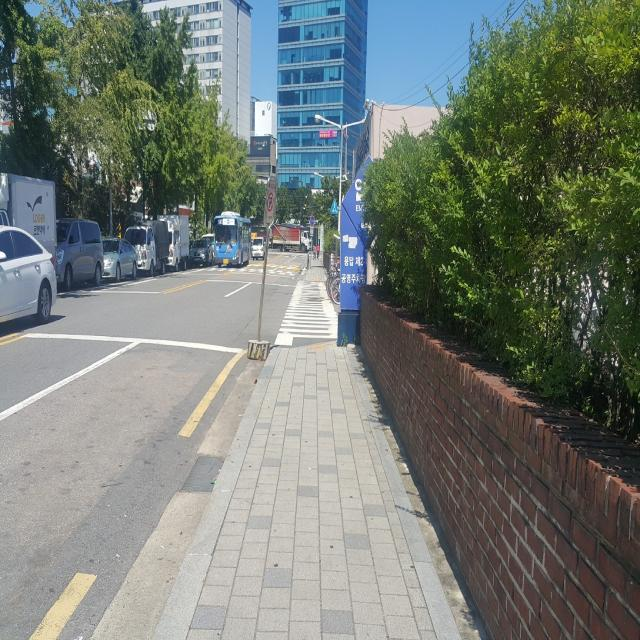횡단보도: (274, 280, 338, 346)
